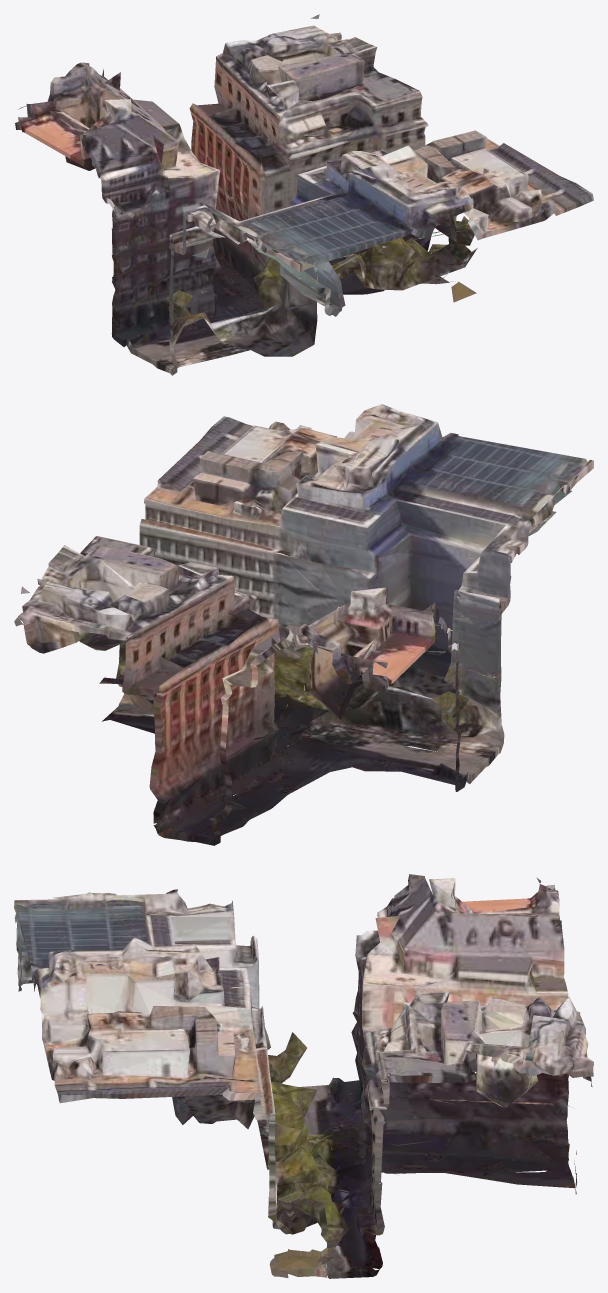
3 renders of one model, top to bottom at view 1: azimuth 30°, elevation 25°; view 2: azimuth 150°, elevation 25°; view 3: azimuth 270°, elevation 25°, orthographic. The views are drawn at different scales.
Visible parts, largest first — view 1: Mesh_0; view 2: Mesh_0; view 3: Mesh_0.
Part boxes in pixels (x1=…): Mesh_0: x1=15, y1=14, x2=593, y2=375; Mesh_0: x1=14, y1=404, x2=593, y2=845; Mesh_0: x1=14, y1=874, x2=593, y2=1278.
Size of the model in its own units: 66.59 by 39.33 by 82.34.
Materials: 1 (1 with a texture image).
